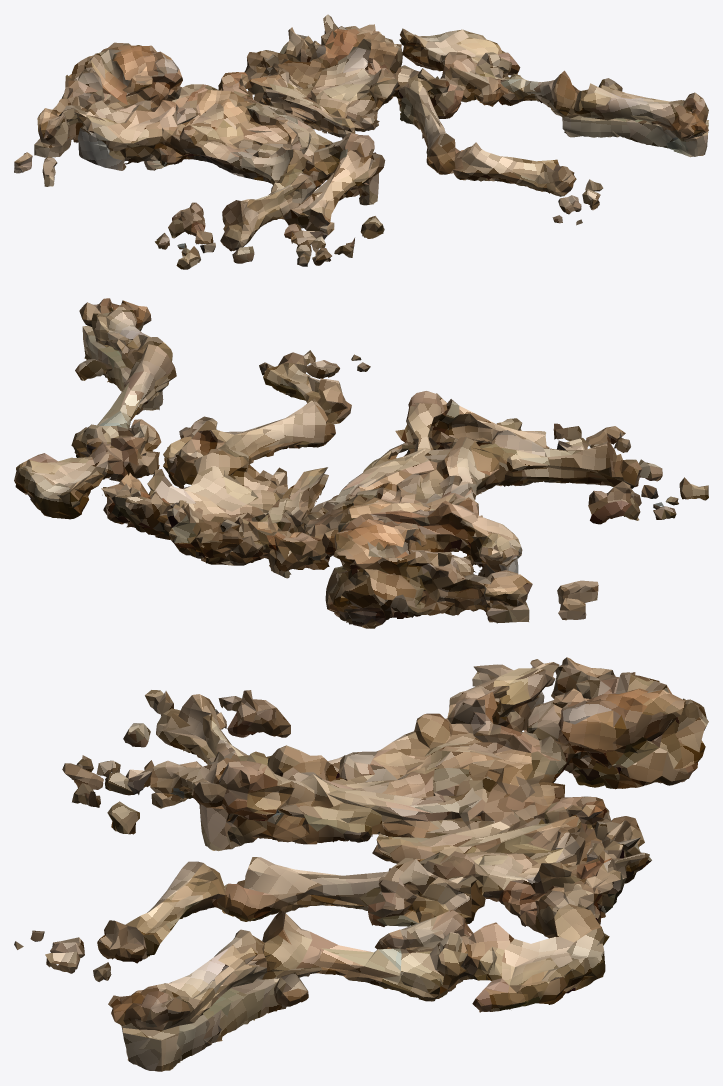
3 views of the same model, one above another, from view 1: azimuth 30°, elevation 25°; view 2: azimuth 150°, elevation 25°; view 3: azimuth 270°, elevation 25° (orthographic). The views are drawn at different scales.
Parts seen in each view (by area): view 1: Elefante_LP; view 2: Elefante_LP; view 3: Elefante_LP.
Boxes of the visible parts, x1,y1,x2,y2 form: Elefante_LP: [14, 14, 708, 269]; Elefante_LP: [14, 298, 708, 628]; Elefante_LP: [14, 657, 708, 1071].
Bounding box in the file's own units: 2.63 × 0.3342 × 2.
1 material, 1 textured.
